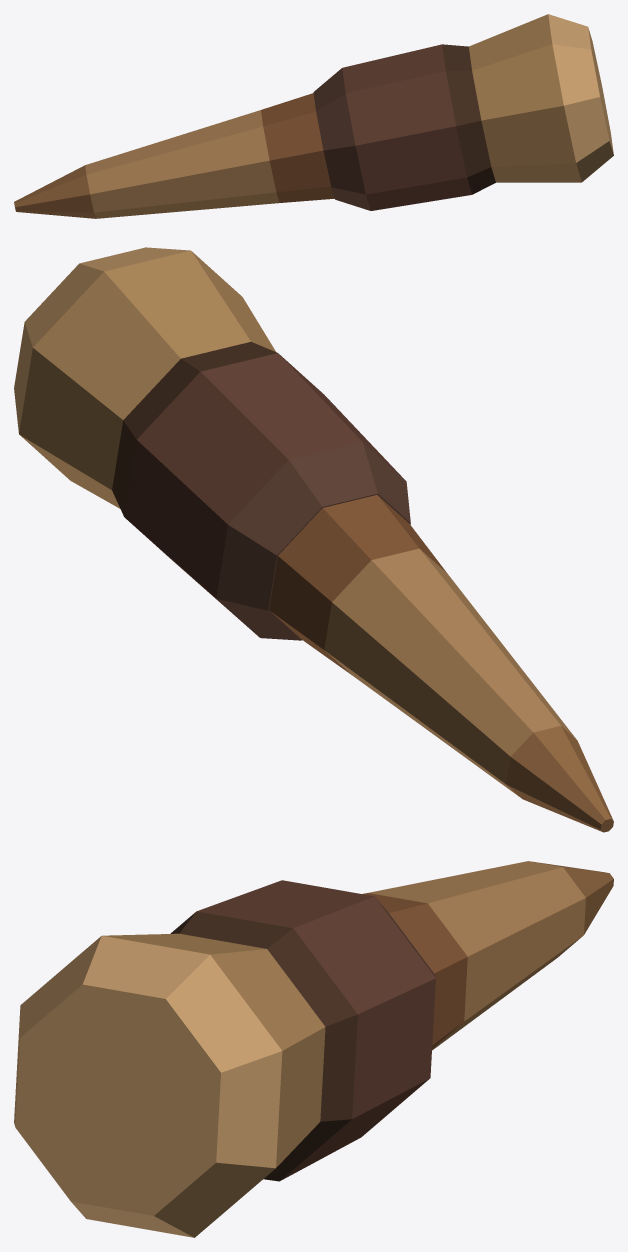
Rendered from duenenmeer_18.glb.
3 renders of one model, top to bottom at view 1: azimuth 30°, elevation 25°; view 2: azimuth 150°, elevation 25°; view 3: azimuth 270°, elevation 25°, orthographic. The views are drawn at different scales.
Visible parts, largest first — view 1: duenenmeer_18; view 2: duenenmeer_18; view 3: duenenmeer_18.
Boxes of the visible parts, x1=… form: duenenmeer_18: x1=14, y1=14, x2=613, y2=218; duenenmeer_18: x1=14, y1=247, x2=613, y2=832; duenenmeer_18: x1=14, y1=861, x2=613, y2=1237.
Bounding box in the file's own units: 2 × 0.7021 × 1.17.
